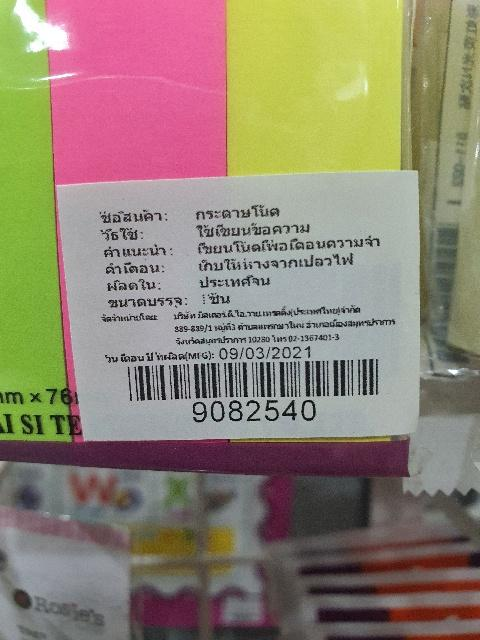Barcode: (118, 352, 390, 421)
